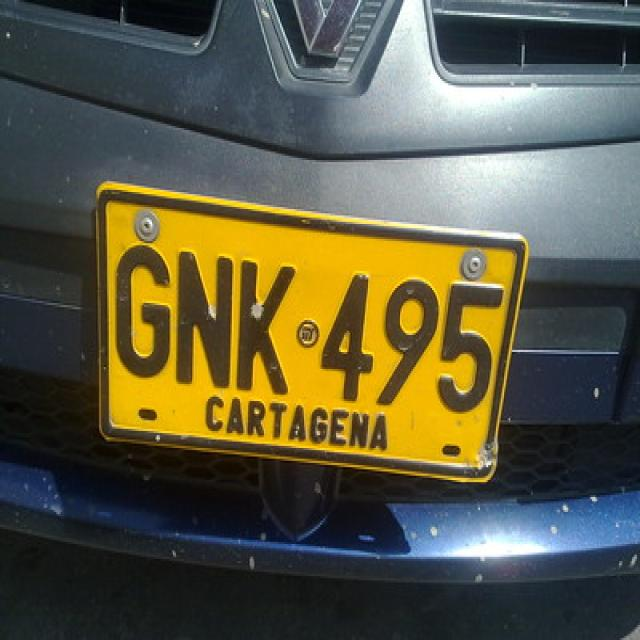placa_carro: (91, 178, 531, 490)
